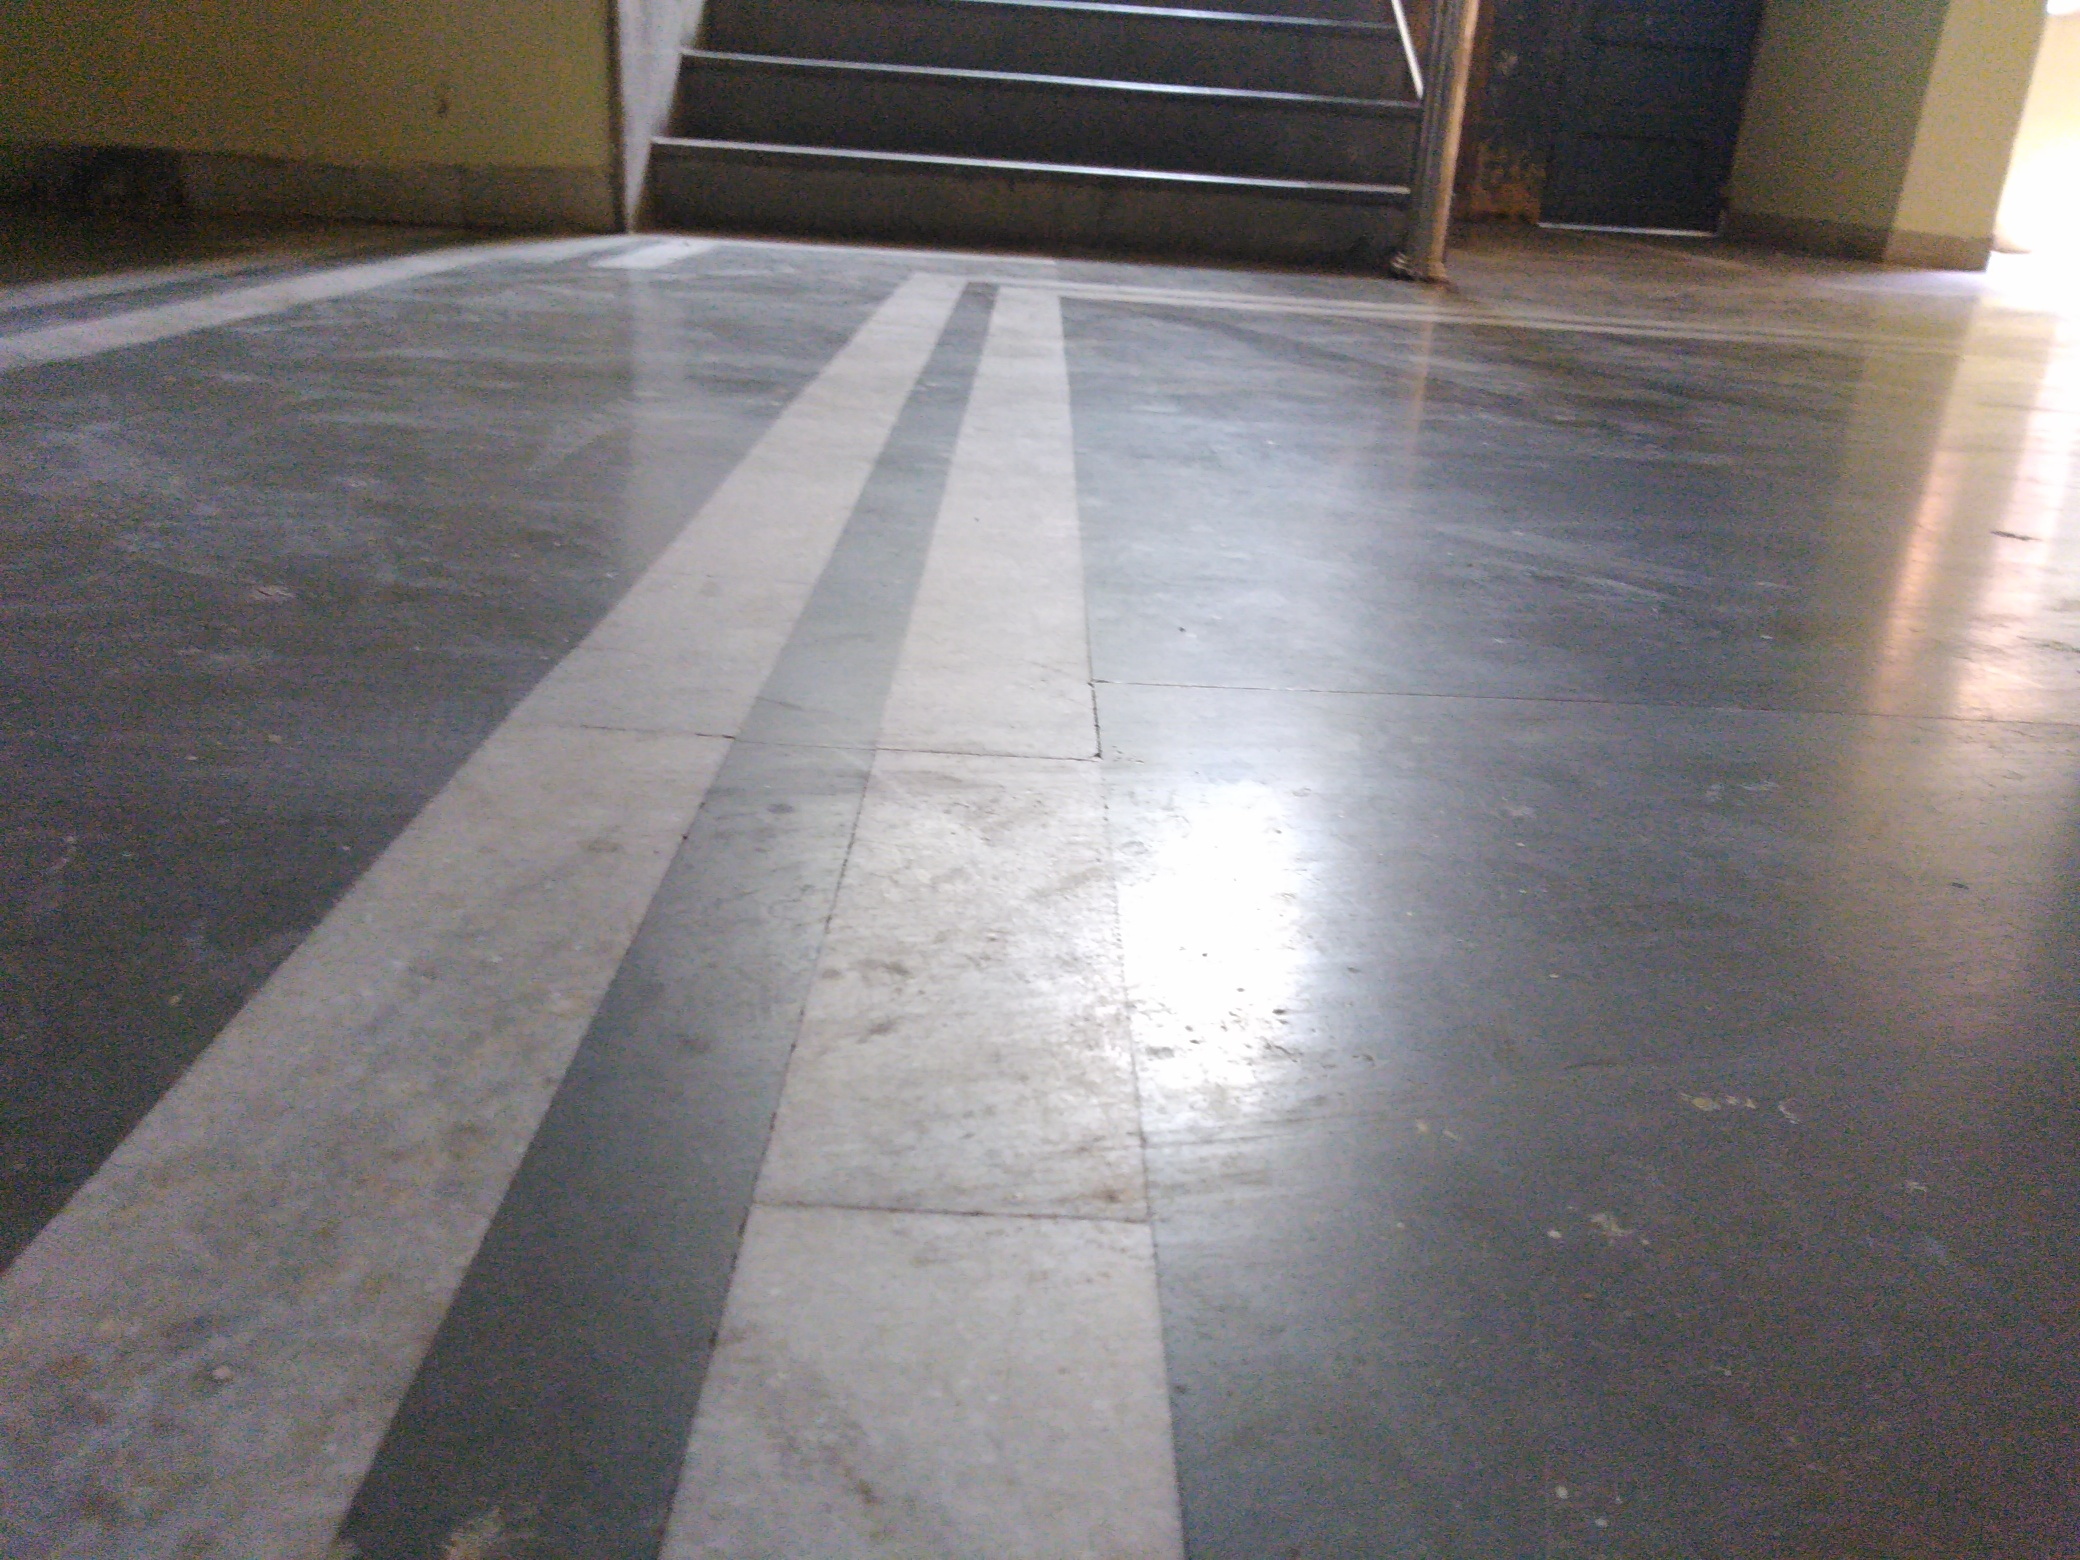stairs_up: (653, 2, 1404, 238)
